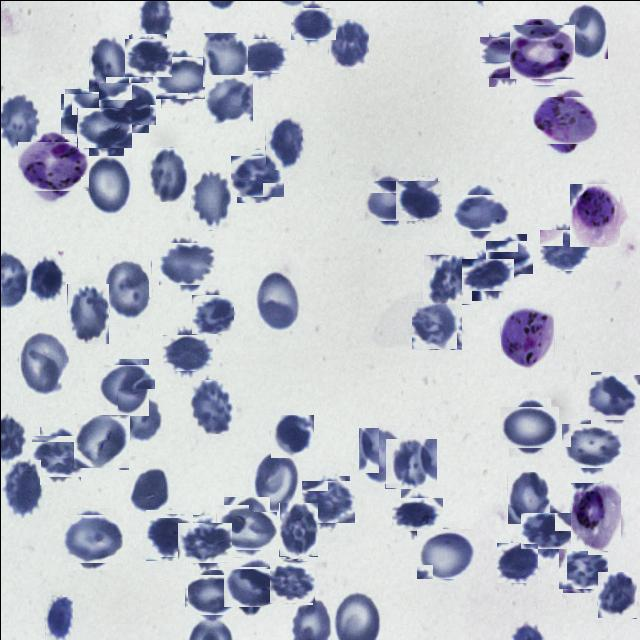difficult: (500, 302, 553, 368), (536, 92, 594, 148)
gametocyte: (569, 183, 619, 246)
red blood cell: (18, 329, 68, 394), (248, 450, 300, 511), (64, 510, 118, 566), (104, 259, 152, 321), (84, 155, 132, 216), (418, 526, 472, 580), (564, 418, 618, 472), (74, 414, 128, 468), (255, 268, 300, 332), (219, 500, 273, 553), (156, 51, 208, 102), (100, 361, 151, 412), (384, 438, 436, 488), (358, 427, 403, 484), (66, 283, 108, 344), (504, 401, 554, 452), (588, 372, 638, 422), (162, 238, 212, 288), (484, 32, 534, 82), (102, 78, 152, 128), (227, 561, 277, 610), (35, 430, 84, 480), (189, 379, 234, 433), (117, 388, 162, 442), (202, 32, 247, 86), (189, 171, 230, 230), (412, 300, 462, 348), (422, 254, 470, 304), (88, 33, 130, 90), (564, 3, 607, 58), (204, 74, 252, 123), (506, 470, 549, 524), (145, 147, 187, 202), (187, 570, 235, 618), (304, 478, 352, 526), (180, 518, 228, 566), (79, 102, 127, 150), (541, 226, 588, 273), (143, 511, 190, 558), (233, 152, 280, 199), (525, 507, 572, 554), (367, 176, 413, 224), (2, 459, 40, 515), (457, 189, 503, 235), (560, 544, 606, 590), (278, 502, 317, 556), (264, 116, 302, 170), (239, 33, 284, 78), (62, 90, 106, 136), (129, 465, 170, 514), (328, 18, 368, 68), (165, 329, 209, 374), (269, 559, 313, 603), (596, 570, 636, 618), (466, 252, 509, 296), (396, 178, 439, 221), (270, 414, 313, 457), (125, 36, 168, 78), (396, 492, 438, 534), (28, 254, 63, 304), (488, 236, 530, 276), (496, 542, 536, 582), (192, 294, 232, 334), (292, 3, 332, 42), (44, 596, 72, 640)
trophozoite: (22, 136, 84, 196), (511, 21, 571, 81), (570, 482, 620, 550)
